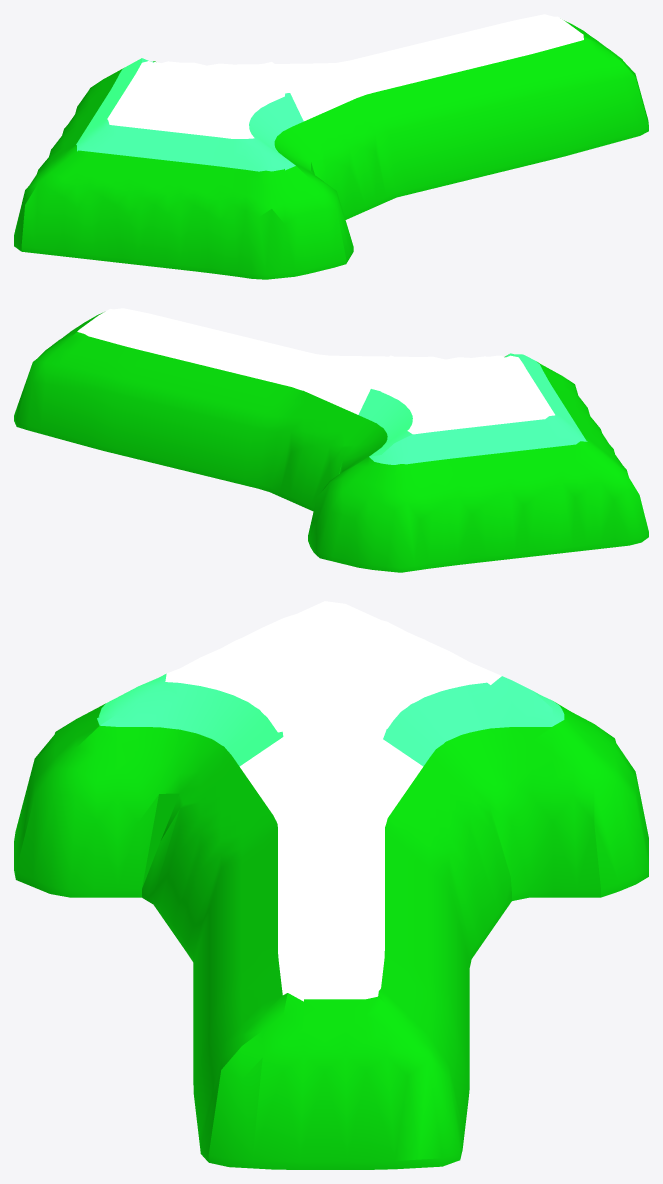
Rendered from arrow_left_95.glb.
3 views of the same model, one above another, from view 1: azimuth 30°, elevation 25°; view 2: azimuth 150°, elevation 25°; view 3: azimuth 270°, elevation 25° (orthographic). The views are drawn at different scales.
Parts seen in each view (by area): view 1: arrow_left_95; view 2: arrow_left_95; view 3: arrow_left_95.
Part boxes in pixels (bbox=[...]): arrow_left_95: bbox=[14, 14, 648, 279]; arrow_left_95: bbox=[14, 308, 648, 572]; arrow_left_95: bbox=[14, 601, 648, 1169].
Size of the model in its own units: 12.07 by 2.52 by 6.9.
